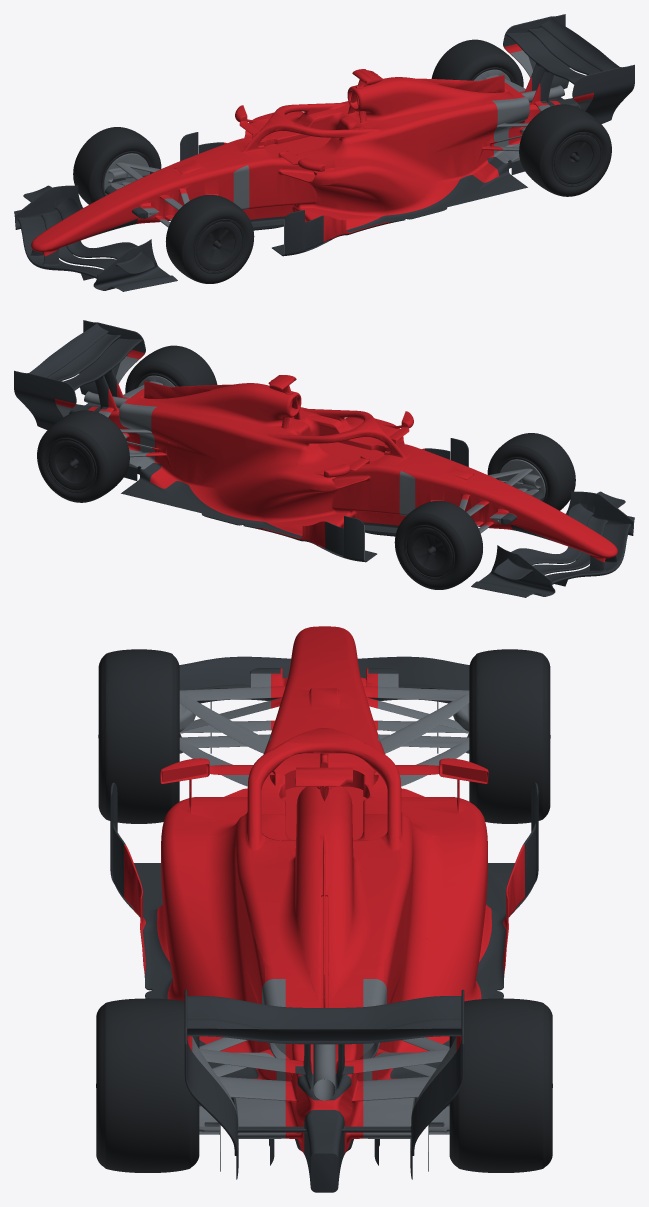
File: formula-hero.glb
3 renders of one model, top to bottom at view 1: azimuth 30°, elevation 25°; view 2: azimuth 150°, elevation 25°; view 3: azimuth 270°, elevation 25°, orthographic. The views are drawn at different scales.
Visible parts, largest first — view 1: left-sidepod, chassis, front-wing, rear-wing, engine-cover, rear-left-wheel, front-left-wheel, floor, front-right-wheel, halo, rear-right-wheel, rear-suspension (+3 smaller); view 2: right-sidepod, chassis, front-wing, rear-wing, engine-cover, rear-right-wheel, front-right-wheel, floor, front-left-wheel, halo, rear-left-wheel, rear-suspension (+3 smaller); view 3: engine-cover, chassis, rear-wing, right-sidepod, left-sidepod, rear-right-wheel, rear-left-wheel, front-left-wheel, front-right-wheel, rear-suspension, front-suspension, floor (+4 smaller).
Boxes of the visible parts, x1,y1,x2,y2 form: left-sidepod: (281,106,503,242); chassis: (31,76,560,256); front-wing: (14,185,177,291); rear-wing: (503,14,634,123); engine-cover: (335,44,593,139); rear-left-wheel: (519,104,611,196); front-left-wheel: (165,195,254,283); floor: (180,132,527,256); front-right-wheel: (73,127,161,204); halo: (245,103,375,148); rear-right-wheel: (431,39,523,87); rear-suspension: (473,50,592,163); right-sidepod: (145,412,367,548); chassis: (88,382,617,562); front-wing: (471,491,634,597); rear-wing: (14,320,145,429); engine-cover: (55,350,312,445); rear-right-wheel: (37,410,129,502); front-right-wheel: (394,501,482,589); floor: (121,438,468,562); front-left-wheel: (487,433,575,510); halo: (273,409,403,454); rear-left-wheel: (125,345,217,393); rear-suspension: (56,356,175,469); engine-cover: (187,767,461,1050); chassis: (234,626,414,1154); rear-wing: (184,989,464,1192); right-sidepod: (384,765,524,1079); left-sidepod: (124,765,264,1079); rear-right-wheel: (449,998,552,1172); rear-left-wheel: (96,998,199,1172); front-left-wheel: (98,649,179,823); front-right-wheel: (469,649,550,823); rear-suspension: (192,979,456,1152); front-suspension: (179,673,469,786); floor: (110,782,538,1179).
Size of the model in its own units: 5394 by 1099 by 1882.
